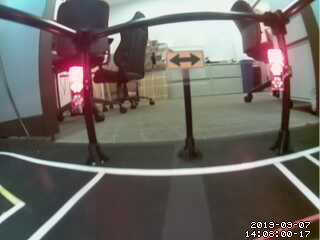Left_Right_sign: (264, 47, 287, 92), (71, 66, 84, 115)
